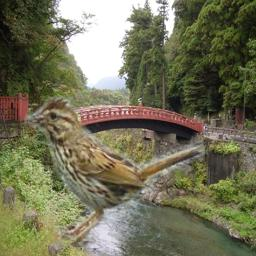Sparrow: (21, 94, 205, 247)
